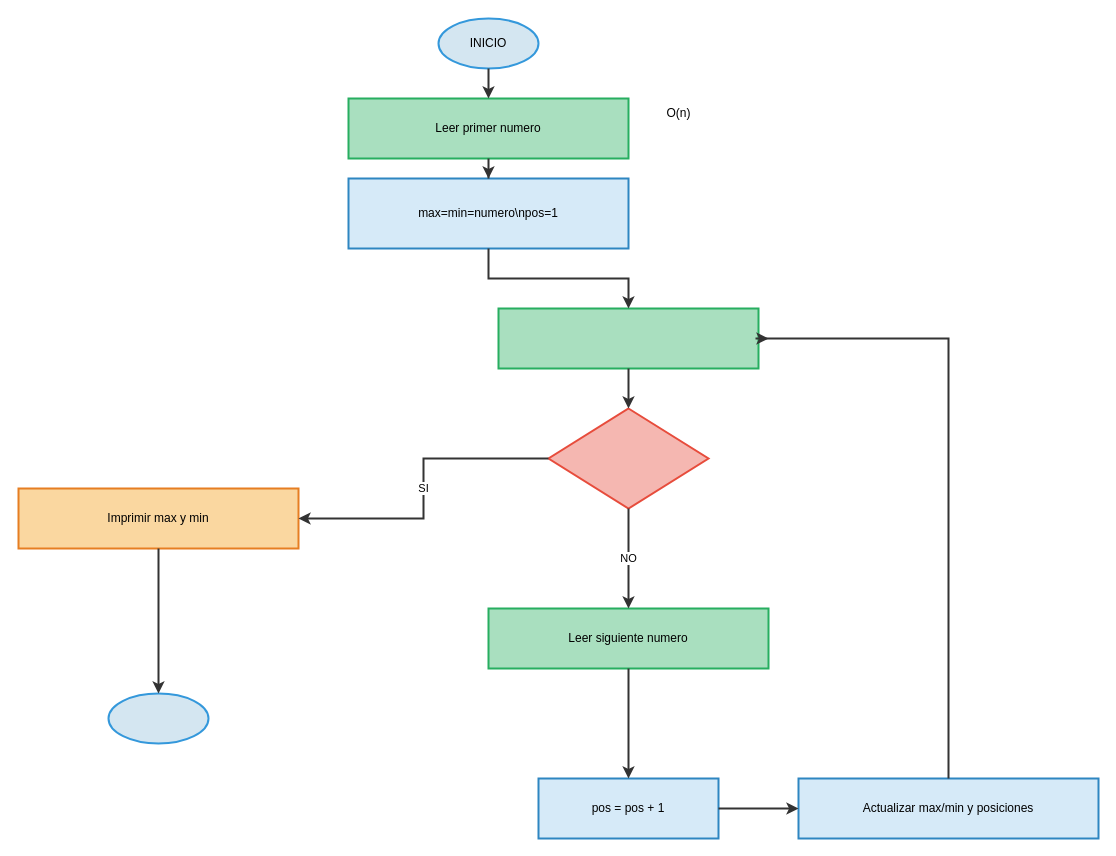
The diagram is 1116 pixels wide and 856 high, and some of its shapes have lost their labels. The shapes that lost their labels are listed below. From the top down, each one's box as (x1, y1, x2, y2) in pixels, then its label:
(497, 307, 759, 369): ¿Hay mas numeros?
(547, 407, 709, 509): ¿Respuesta es 'n'?
(107, 692, 209, 744): FIN
